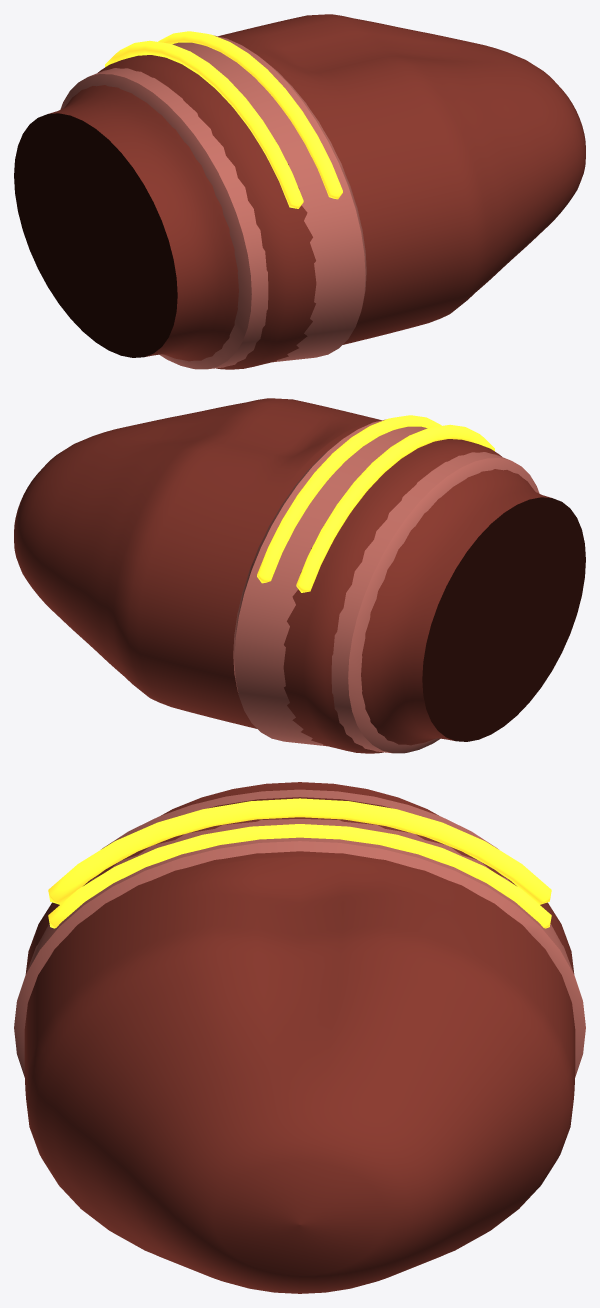
File: pink_torpedo_rear.glb
The picture shows the model from 3 angles, top to bottom: view 1: azimuth 30°, elevation 25°; view 2: azimuth 150°, elevation 25°; view 3: azimuth 270°, elevation 25°; orthographic projection. The views are drawn at different scales.
Parts seen in each view (by area): view 1: body.001, band.001, slit0.001, slit1.001; view 2: body.001, band.001, slit0.001, slit1.001; view 3: body.001, band.001, slit0.001, slit1.001.
Part boxes in pixels (x1,y1,x2,y2): body.001: (14,14,585,369); band.001: (60,35,366,369); slit0.001: (105,40,303,208); slit1.001: (158,31,342,199); body.001: (14,398,585,753); band.001: (233,419,539,753); slit0.001: (296,424,494,592); slit1.001: (257,415,441,583); body.001: (24,782,575,1293); band.001: (14,789,585,1077); slit0.001: (48,798,551,904); slit1.001: (48,824,551,928).
Bounding box in the file's own units: 23.7 × 13.97 × 19.
